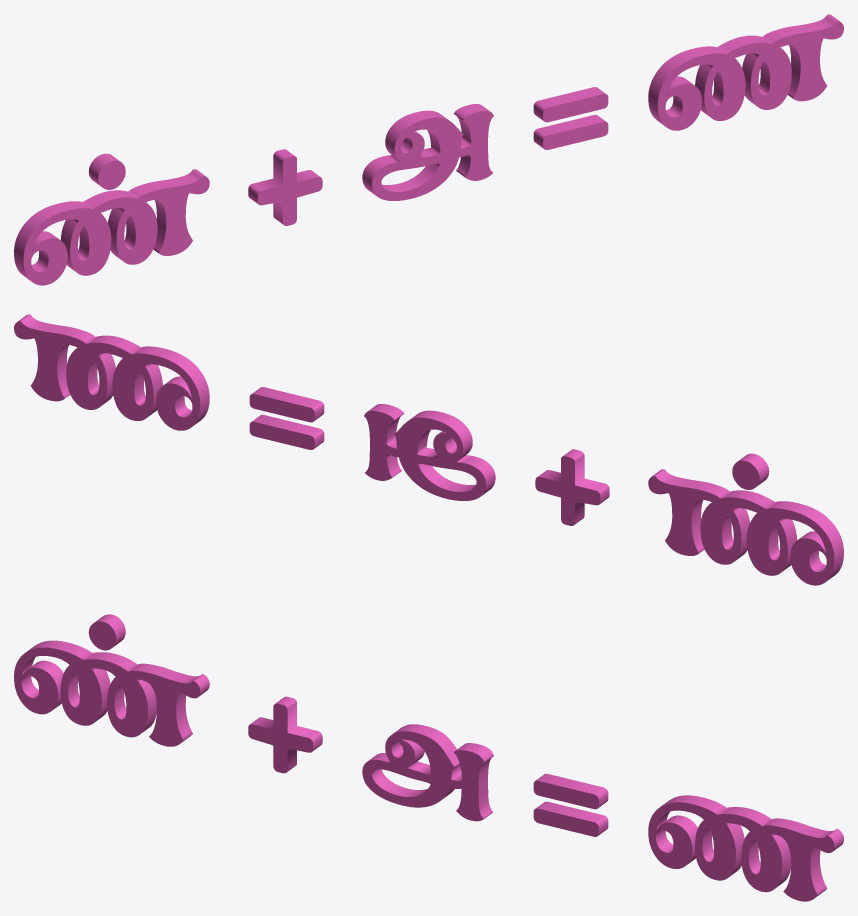
3 renders of one model, top to bottom at view 1: azimuth 30°, elevation 25°; view 2: azimuth 150°, elevation 25°; view 3: azimuth 330°, elevation 25°, orthographic.
Parts seen in each view (by area): view 1: naa; view 2: naa; view 3: naa.
Boxes of the visible parts, box(x1,y1,x2,y2) form: naa: box(14, 14, 843, 285); naa: box(14, 314, 843, 585); naa: box(14, 614, 843, 901).
Bounding box in the file's own units: 0.2149 × 0.0277 × 0.00431.
